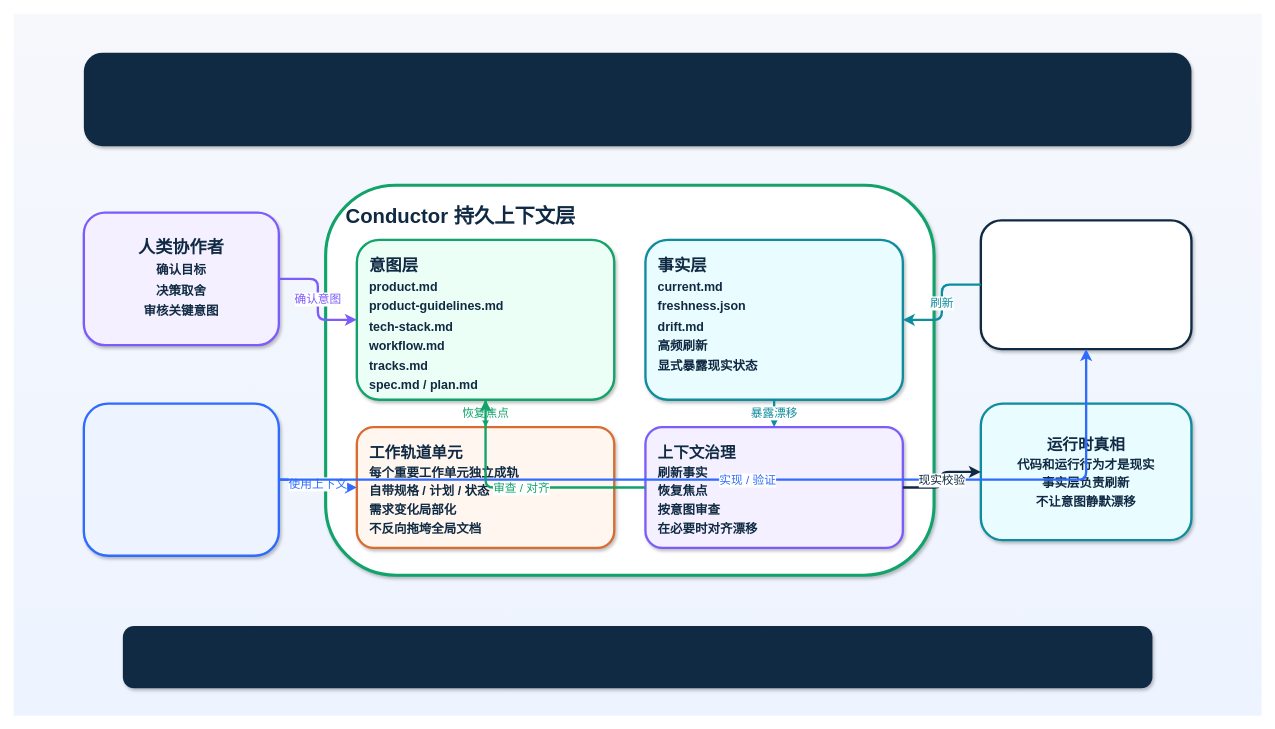
Image size: 1275x729. Some labels were removed from this diagram. The shapes that lost their labels are listed below. From the top down, each one's centre as x and y in pixels, then its label:
At (638,100): "Conductor 不是唯一工作流，而是持久上下文层 原生仓库理解优先，Conductor 负责承载长期上下文、恢复焦点、暴露漂移".
At (1086,285): "原生仓库现实 代码 配置 测试 Git 状态".
At (181,480): "Codex 技能 / 子智能体 实现 审查 研究 验证".
At (638,657): "演讲重点: 先理解真实代码库，再读取 Conductor 上下文，再调用原生技能和子智能体，最后在有意义的变化后做对齐。".
